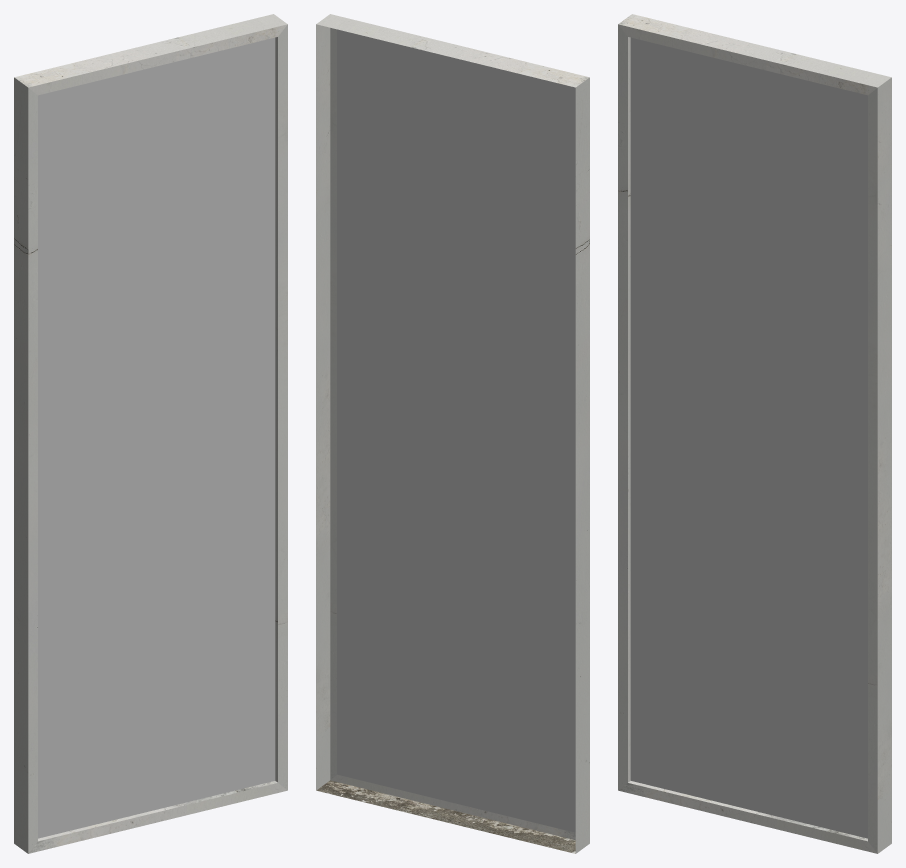
Rendered from window 10.FBX.
3 views of the same model, side by side, from view 1: azimuth 30°, elevation 25°; view 2: azimuth 150°, elevation 25°; view 3: azimuth 330°, elevation 25° (orthographic).
Parts seen in each view (by area): view 1: Object136; view 2: Object136; view 3: Object136.
Boxes of the visible parts, x1,y1,x2,y2 form: Object136: [14, 14, 287, 853]; Object136: [316, 14, 589, 853]; Object136: [618, 14, 891, 853].
Size of the model in its own units: 1.6 by 4.51 by 0.15.
